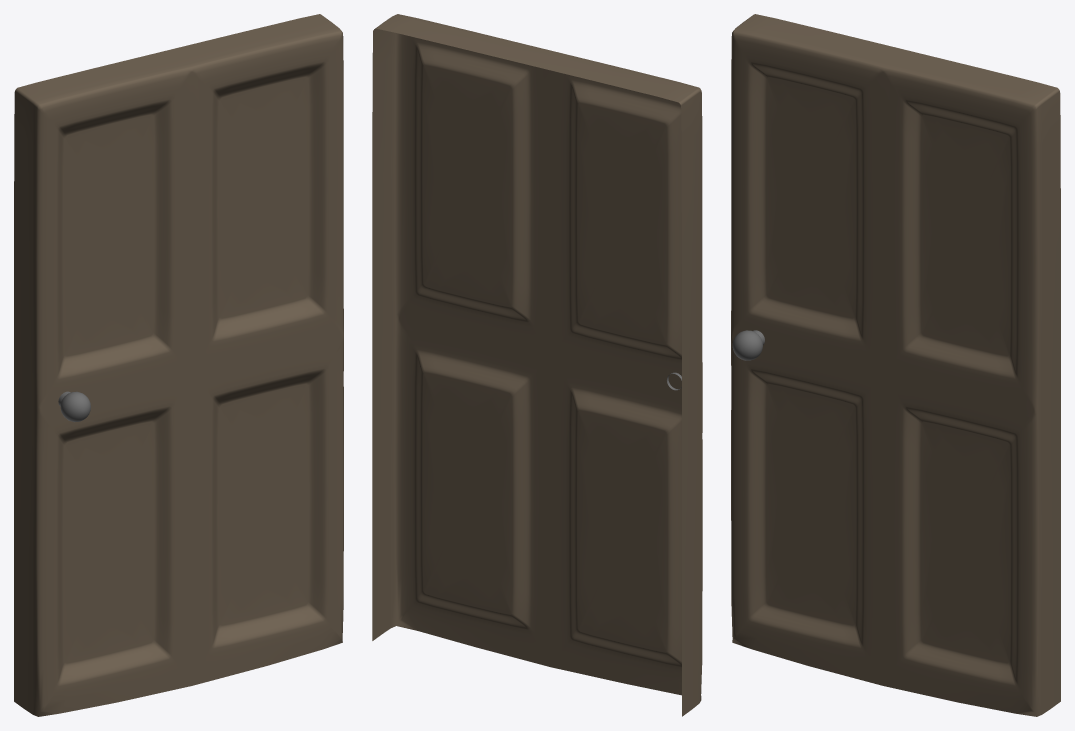
The model's file is door01.fbx.
The picture shows the model from 3 angles, left to right: view 1: azimuth 30°, elevation 25°; view 2: azimuth 150°, elevation 25°; view 3: azimuth 330°, elevation 25°; orthographic projection.
Visible parts, largest first — view 1: door04; view 2: door04; view 3: door04.
Part boxes in pixels (box(x1,y1,x2,y2)): door04: box(14, 14, 343, 716); door04: box(372, 14, 702, 716); door04: box(731, 14, 1060, 716).
Bounding box in the file's own units: 181 × 346 × 40.98.
